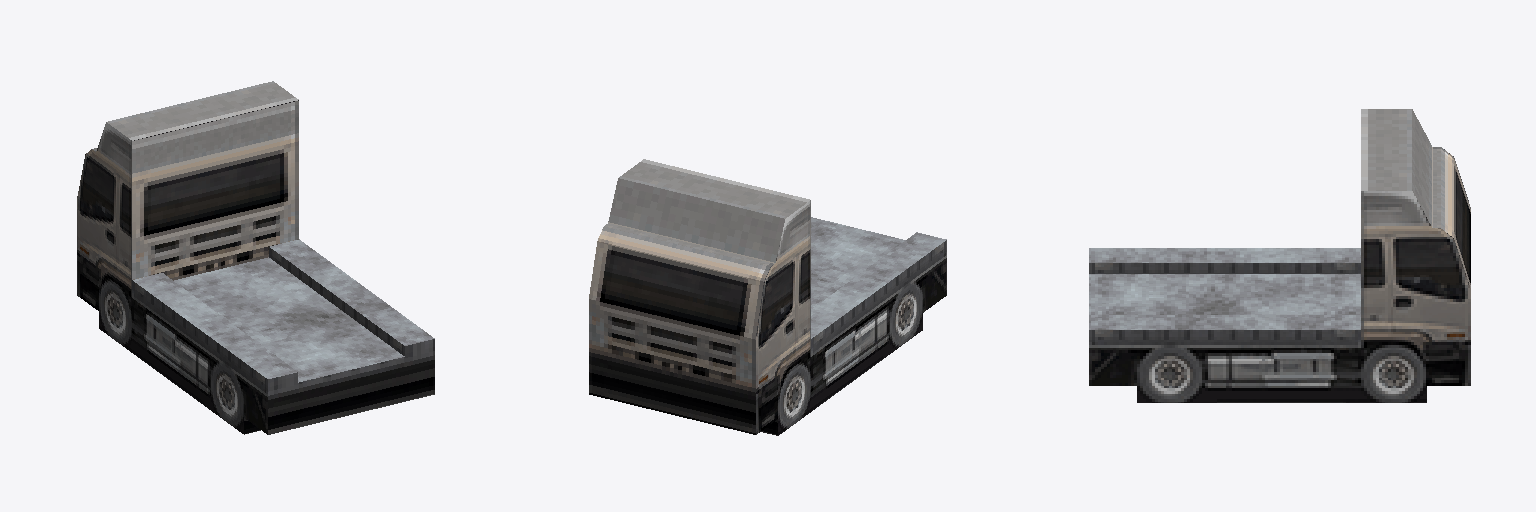
The picture shows the model from 3 angles: view 1: azimuth 30°, elevation 25°; view 2: azimuth 150°, elevation 25°; view 3: azimuth 270°, elevation 25°; orthographic projection.
Visible parts, largest first — view 1: truck_flat; view 2: truck_flat; view 3: truck_flat.
Part boxes in pixels (x1,y1,x2,y2): truck_flat: (77, 81, 434, 434); truck_flat: (589, 159, 946, 435); truck_flat: (1089, 109, 1470, 402).
Bounding box in the file's own units: 0.83 × 1.01 × 1.64.
Materials: 2 (2 with a texture image).